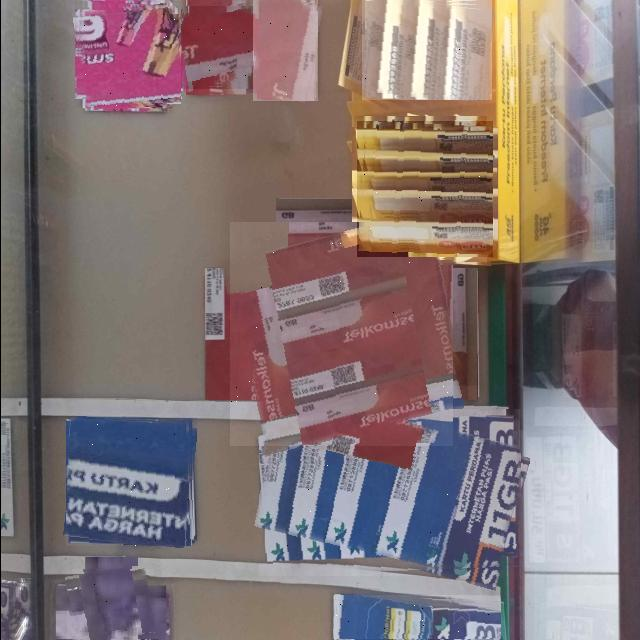Axis: (66, 569, 153, 640)
Gratis Nelpon: (258, 409, 522, 576), (65, 419, 194, 546), (333, 595, 500, 639)
Indosat: (356, 121, 492, 257), (361, 0, 491, 100)
Telkomsel: (229, 222, 452, 446), (173, 6, 257, 89), (252, 0, 317, 101)
smartfren: (74, 1, 180, 107)
